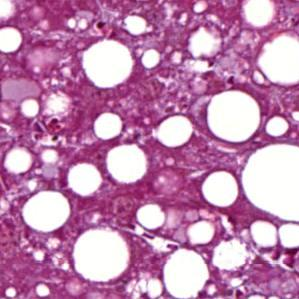steatosis: (202, 88, 263, 144), (80, 39, 137, 88), (20, 191, 70, 234), (105, 144, 150, 182), (201, 170, 239, 210)
